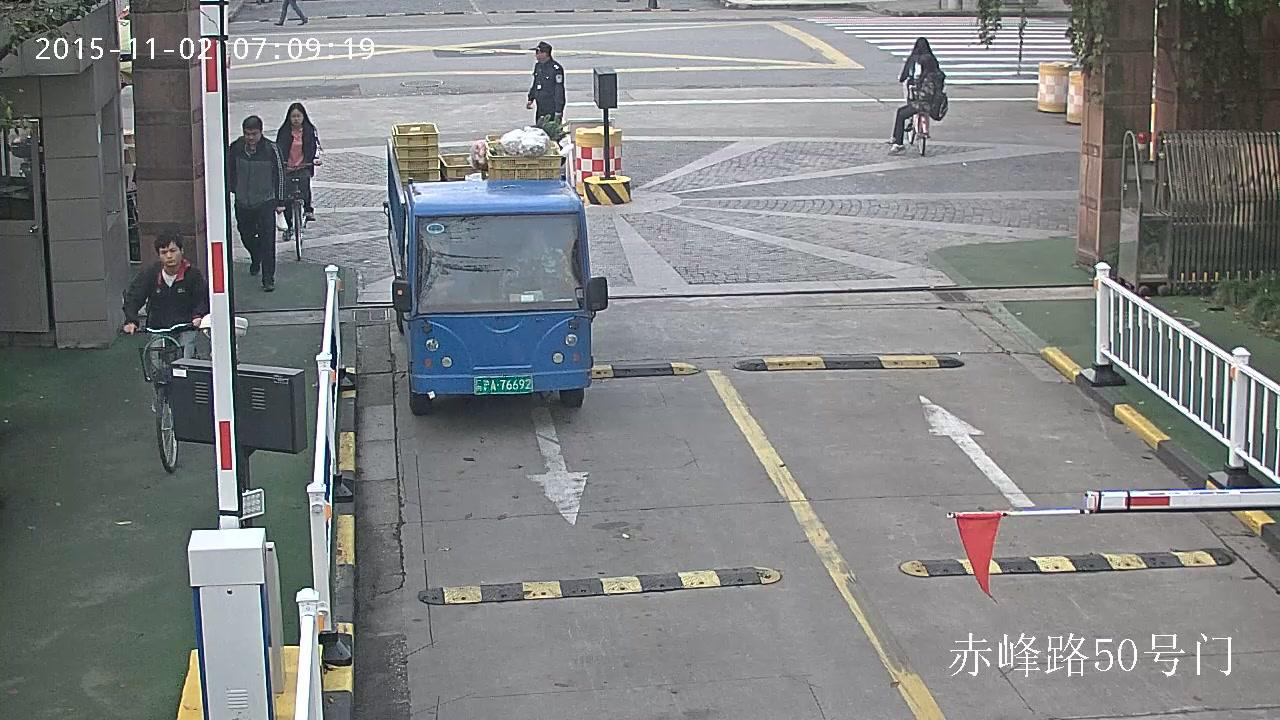person: (120, 229, 210, 471), (121, 229, 209, 410), (223, 113, 289, 292), (274, 100, 324, 258), (886, 36, 947, 158), (274, 101, 323, 240), (887, 53, 948, 151), (896, 36, 941, 137), (525, 40, 566, 127), (273, 0, 307, 27)
